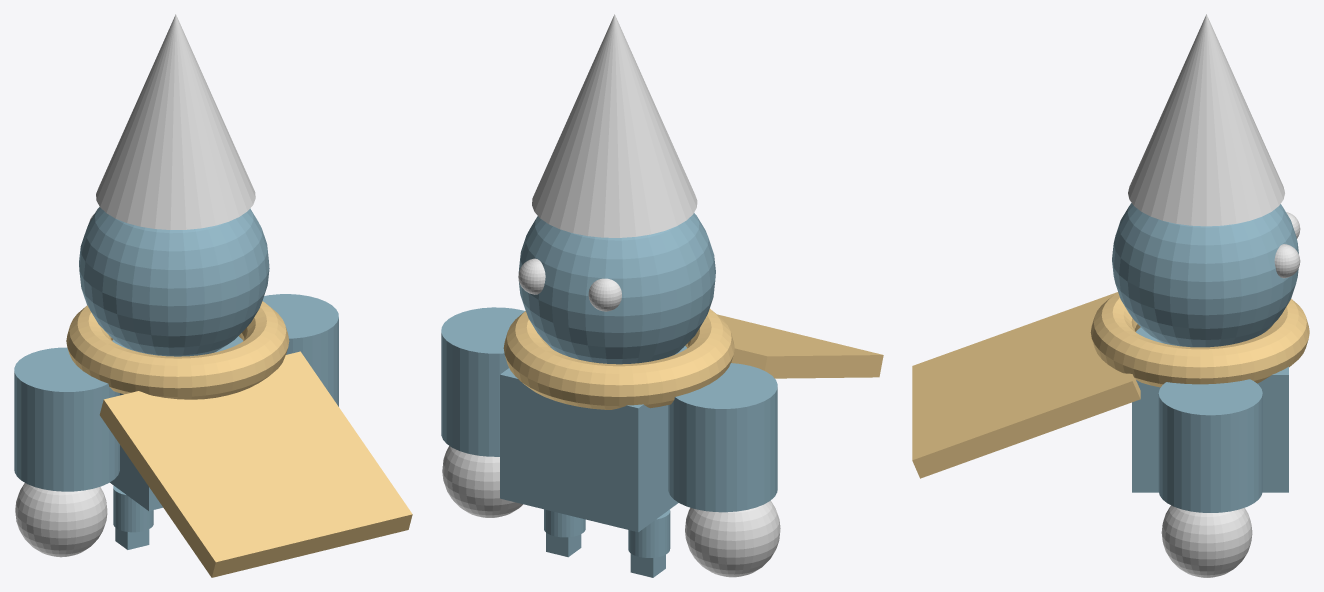
File: bruh.fbx
3 renders of one model, left to right at view 1: azimuth 30°, elevation 25°; view 2: azimuth 150°, elevation 25°; view 3: azimuth 270°, elevation 25°, orthographic. The views are drawn at different scales.
Visible parts, largest first — view 1: Cube.002, Sphere, Cone, Cylinder, Torus, Sphere.001, Cube, Cylinder.001, Cube.001; view 2: Cylinder, Sphere, Cone, Cube, Torus, Sphere.001, Cube.002, Cylinder.001, Sphere.002, Cube.001; view 3: Cube.002, Sphere, Cone, Cylinder, Torus, Cube, Sphere.001, Sphere.002.
Part boxes in pixels (box(x1,y1,x2,y2)): Cube.002: box(99, 351, 412, 577); Sphere: box(79, 207, 269, 356); Cone: box(96, 14, 255, 229); Cylinder: box(14, 294, 338, 491); Torus: box(66, 301, 289, 399); Sphere.001: box(15, 483, 107, 557); Cube: box(110, 336, 242, 510); Cylinder.001: box(113, 485, 153, 532); Cube.001: box(115, 528, 149, 549); Cylinder: box(441, 307, 777, 512); Sphere: box(518, 213, 715, 364); Cone: box(532, 14, 697, 237); Cube: box(500, 346, 686, 532); Torus: box(503, 309, 734, 409); Sphere.001: box(442, 446, 780, 577); Cube.002: box(717, 314, 883, 378); Cylinder.001: box(544, 509, 670, 557); Sphere.002: box(518, 258, 621, 311); Cube.001: box(546, 533, 665, 577); Cube.002: box(912, 292, 1140, 478); Sphere: box(1112, 203, 1298, 347); Cone: box(1128, 14, 1284, 226); Cylinder: box(1158, 379, 1262, 512); Torus: box(1090, 292, 1309, 387); Cube: box(1132, 327, 1288, 492); Sphere.001: box(1161, 505, 1252, 577); Sphere.002: box(1274, 212, 1300, 278).
Bounding box in the file's own units: 542 × 863 × 605.
